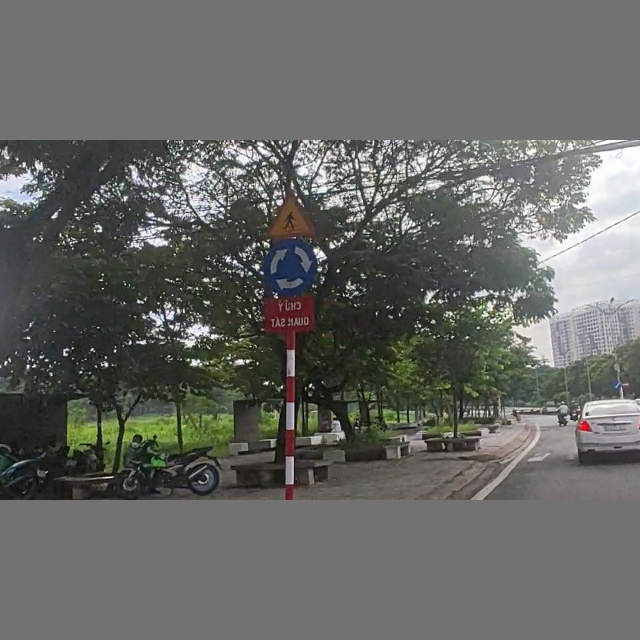P.102: (621, 381, 629, 389)
R.302a: (613, 381, 621, 390)
R.303: (258, 241, 319, 295)
W.224: (263, 192, 315, 238)
